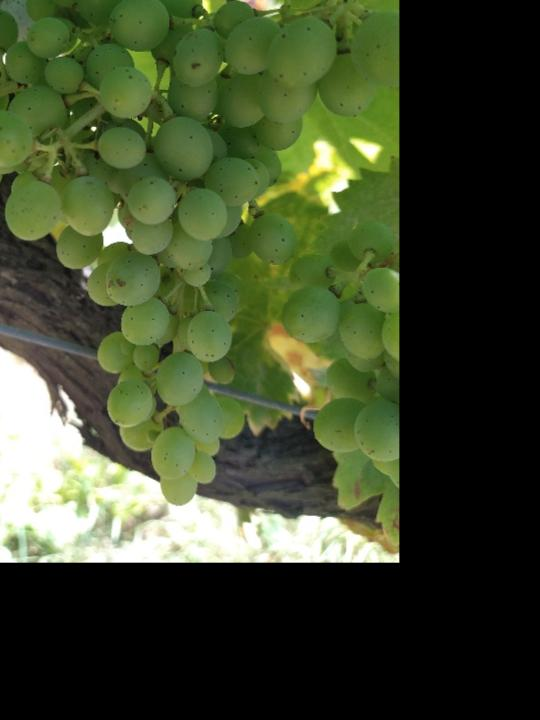grape: (0, 0, 393, 512)
